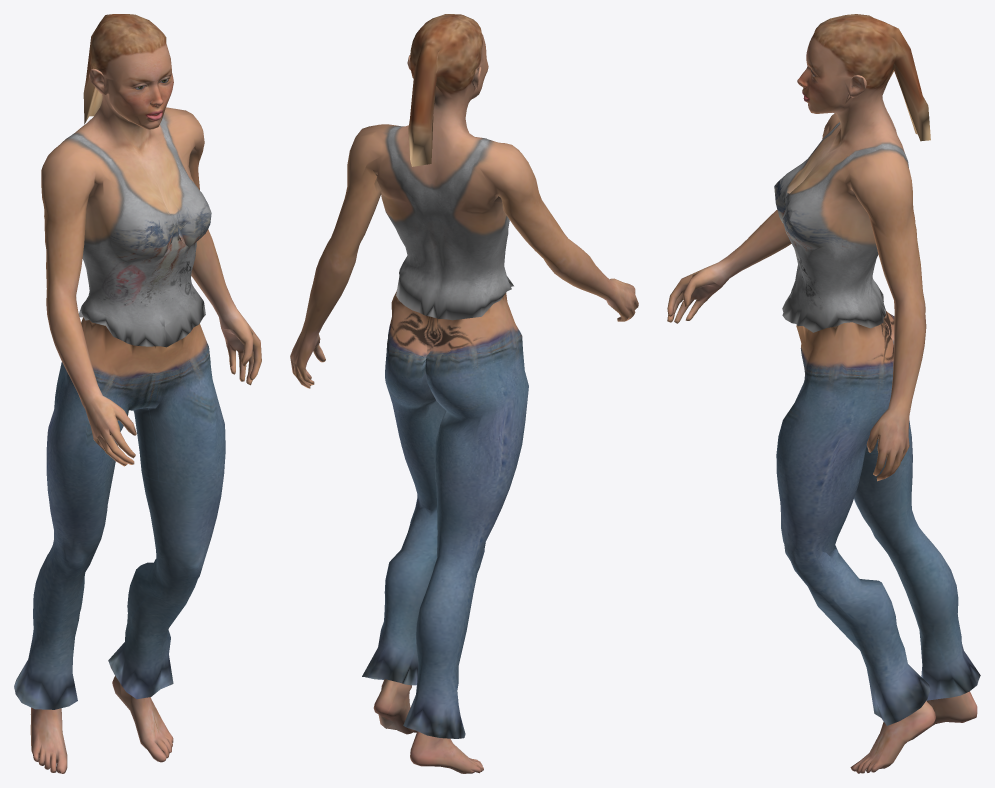
File: tina.obj
3 views of the same model, side by side, from view 1: azimuth 30°, elevation 25°; view 2: azimuth 150°, elevation 25°; view 3: azimuth 270°, elevation 25° (orthographic). The views are drawn at different scales.
Visible parts, largest first — view 1: Mesh; view 2: Mesh; view 3: Mesh.
Boxes of the visible parts, x1,y1,x2,y2 form: Mesh: [14, 14, 261, 773]; Mesh: [290, 14, 638, 773]; Mesh: [667, 14, 980, 773].
Size of the model in its own units: 0.8125 by 2.26 by 0.8664.
